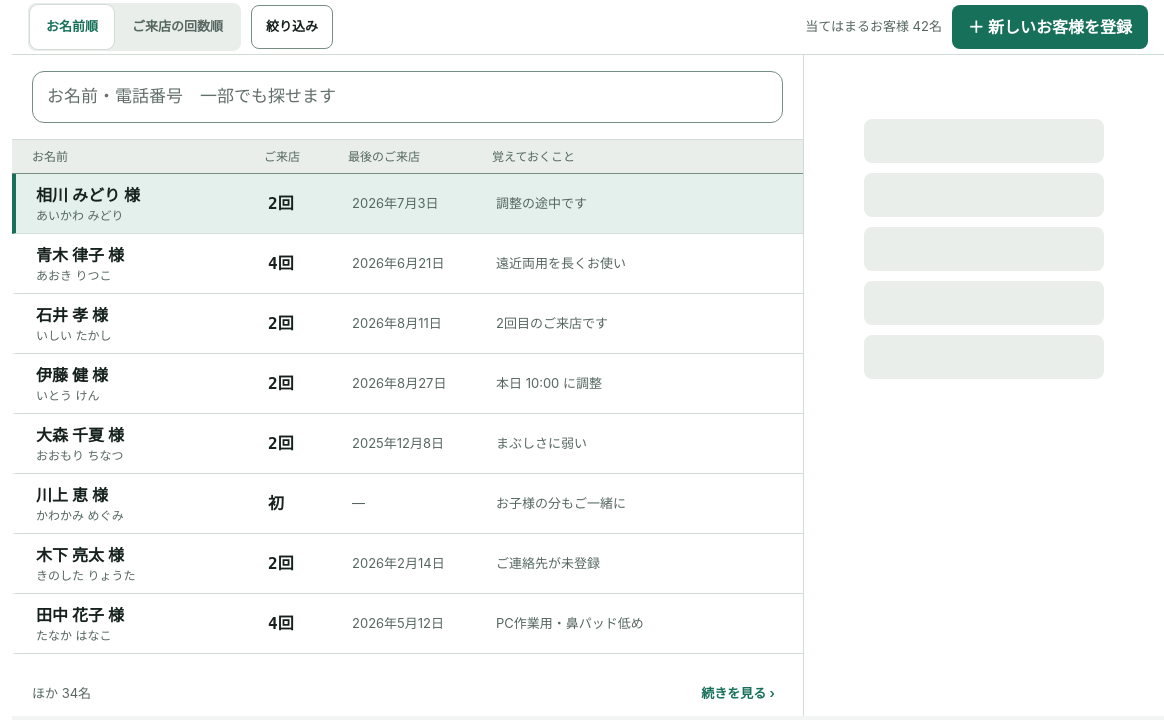
並べ方と絞り込み › 絞り込みが持つ条件はご来店の回数の 4 段（初 / 1回 / 2〜4回 / 5回以上）だけ
The width and height of the screenshot is (1164, 720).
Click the button "絞り込み". click: {"x": 292, "y": 27}
box: [251,5,333,49]
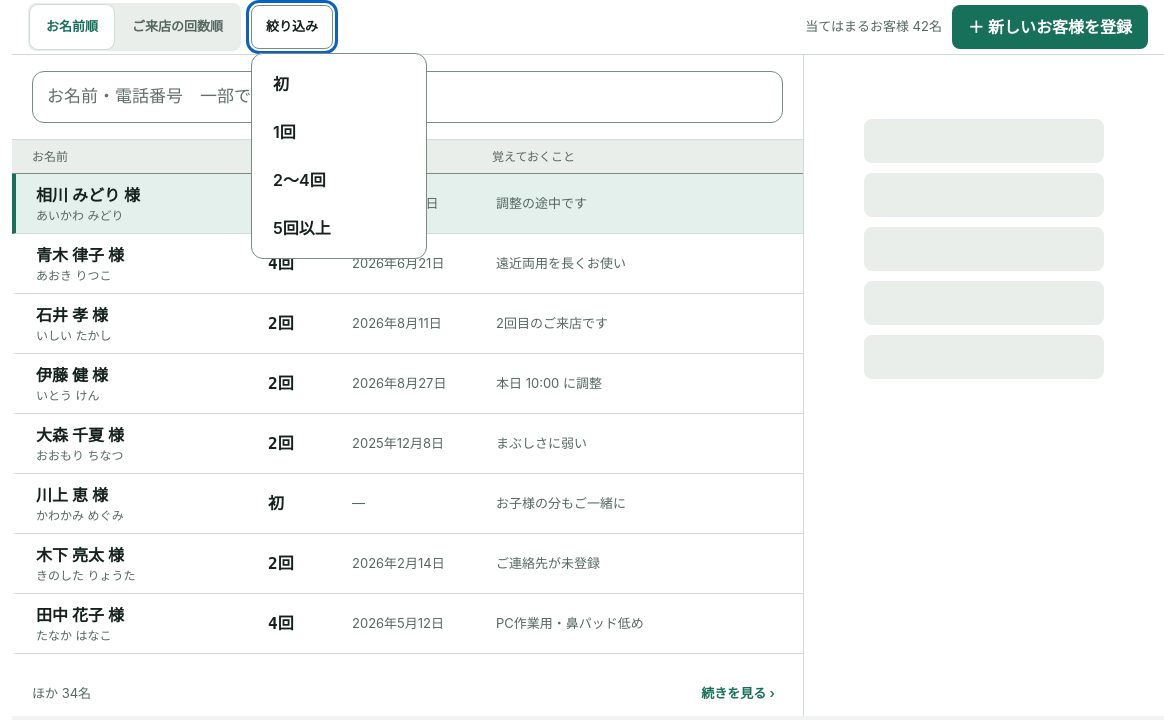
Result: the buttons read "初", "1回", "2〜4回", "5回以上", in this order at [260,62,418,106]; [260,110,418,154]; [260,158,418,202]; [260,206,418,250]
